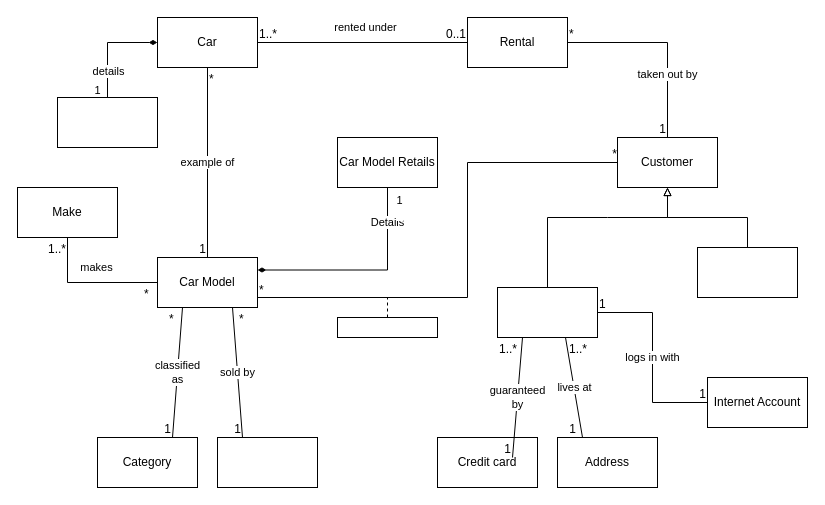
This 825x505 diagram has some shape labels left out. The shapes that lost their labels are listed below. From the top down, each one's centre as x and y in pixels, then its label:
[107,122]: Car Details
[747,272]: NonMember
[387,327]: Resevation
[547,312]: Member
[267,462]: Vendor
